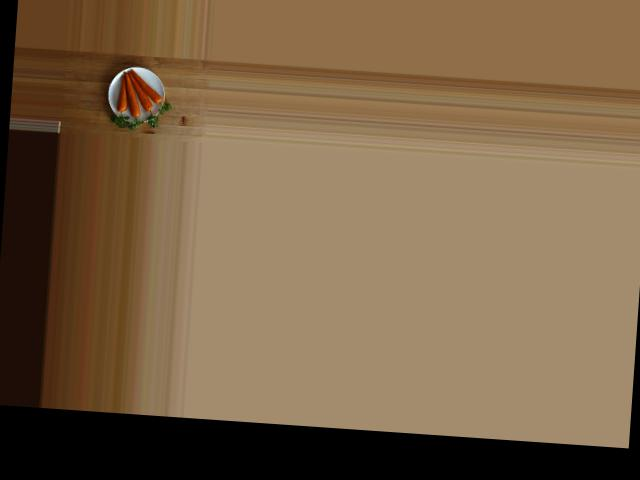carrot: (129, 67, 166, 106)
